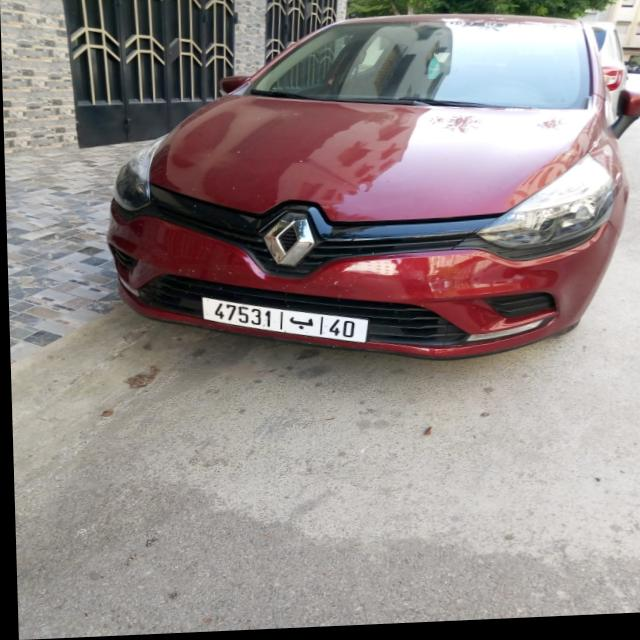License-Plate: (200, 299, 366, 345)
